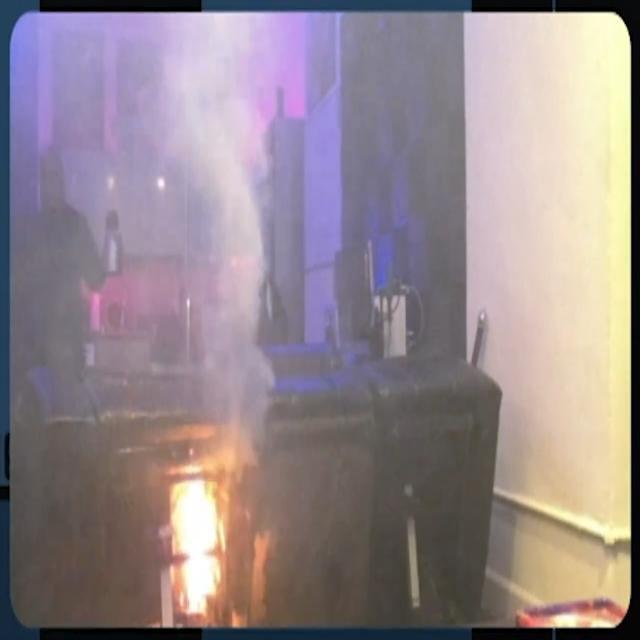Fire: (174, 478, 218, 601)
Smoke: (166, 41, 280, 434)
